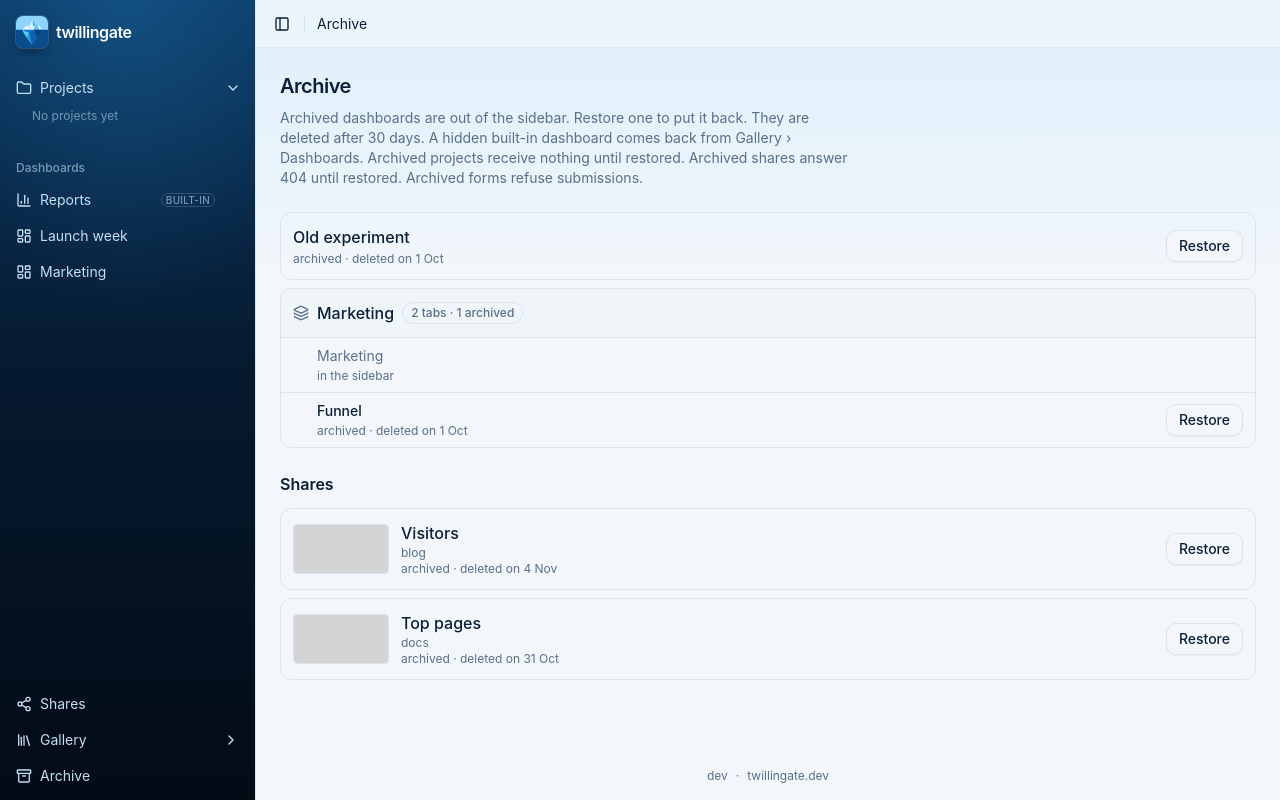
Test: Archive, shares › Restore asks Archive after, one month by default, and restores with it
What coordinates should you click on to do the following:
click the button "Restore" in the row of "Visitors"
I would click on:
 (1204, 549)
Its box is [1166,533,1243,565].
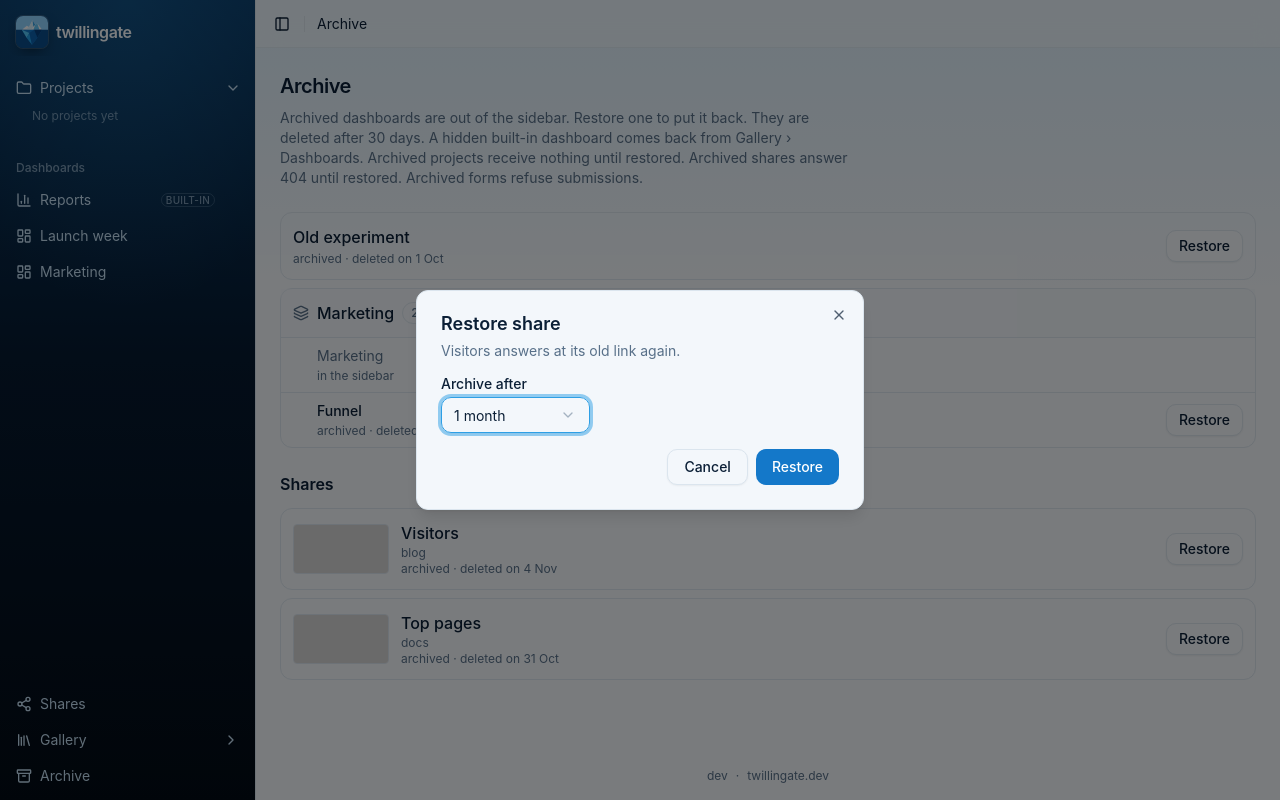
Expected: the dropdown labelled "Archive after" shows "1 month", [441,397,590,433]
What coordinates should you click on to do the following:
click the button "Restore"
I would click on:
 (797, 467)
Its box is [756,449,839,485].
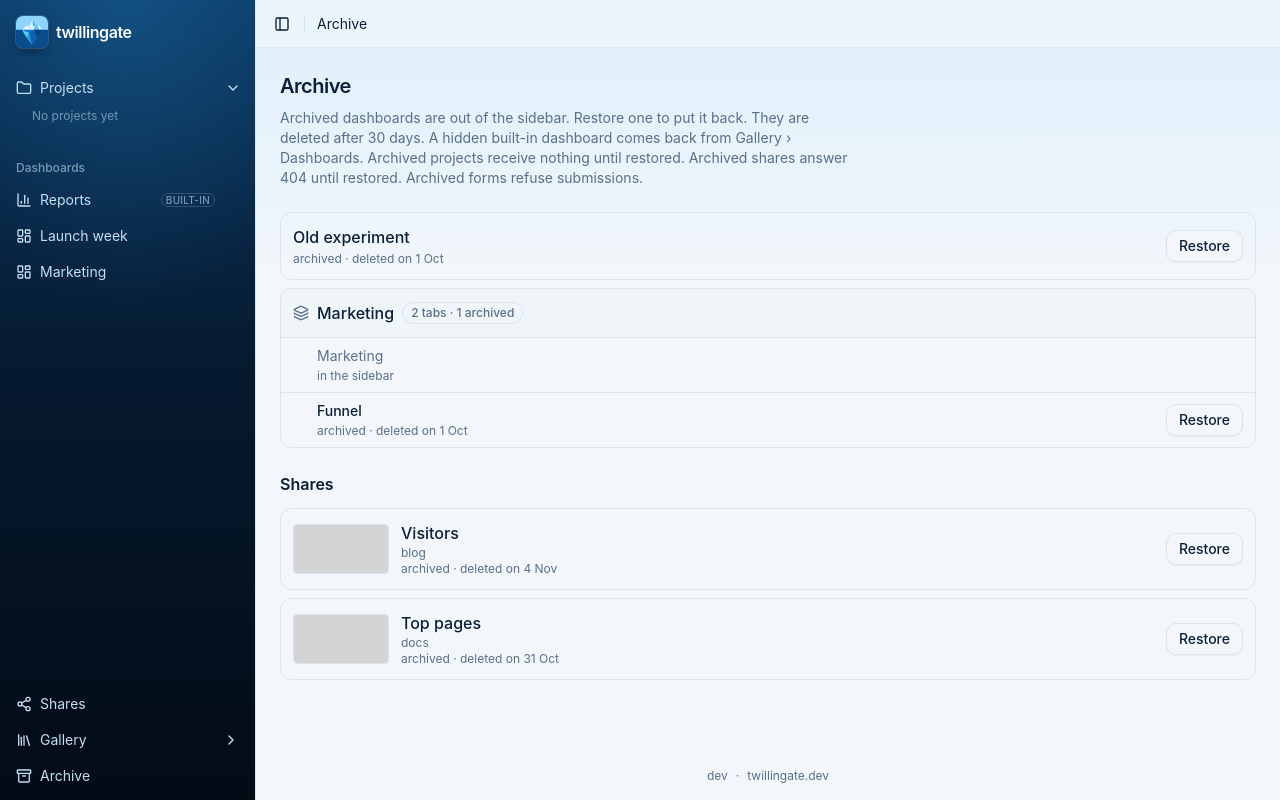
Expected: the dialog is gone
